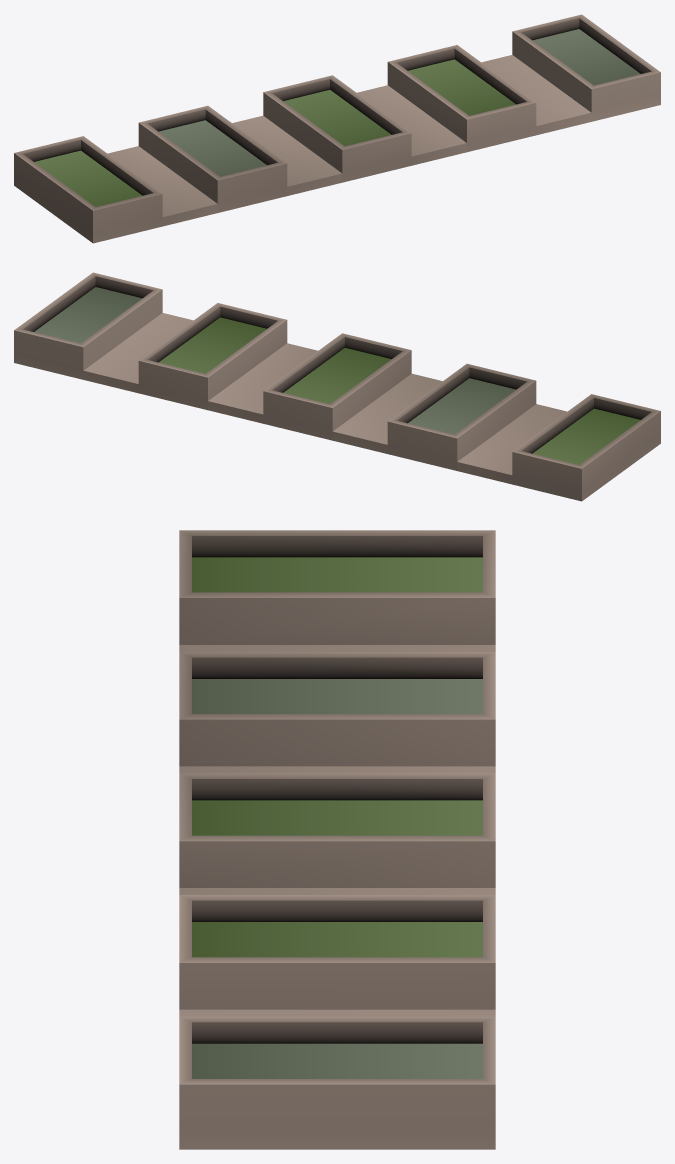
File: The garden.fbx
3 renders of one model, top to bottom at view 1: azimuth 30°, elevation 25°; view 2: azimuth 150°, elevation 25°; view 3: azimuth 270°, elevation 25°, orthographic. The views are drawn at different scales.
Visible parts, largest first — view 1: Cube.757; view 2: Cube.757; view 3: Cube.757.
Part boxes in pixels (box(x1,y1,x2,y2)): Cube.757: box(14, 14, 660, 243); Cube.757: box(14, 272, 660, 501); Cube.757: box(179, 530, 495, 1149).
Bounding box in the file's own units: 15.86 × 3.83 × 0.8698.
